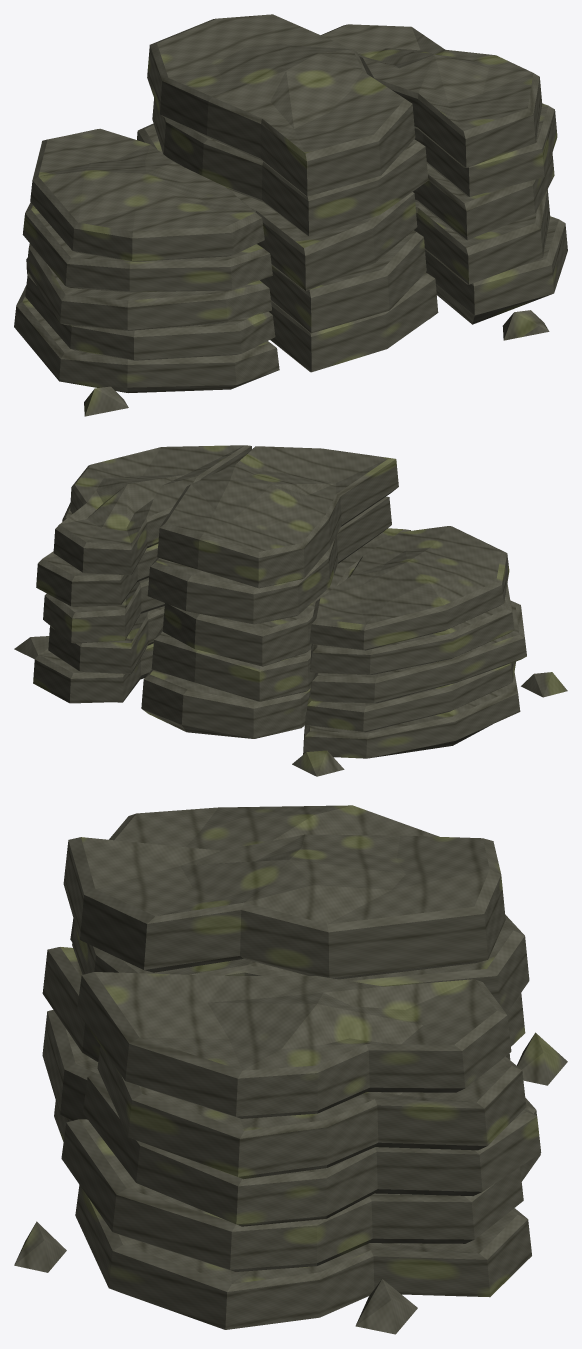
The model's file is frontier_sunmeadow_limestone_lod2.glb.
3 views of the same model, one above another, from view 1: azimuth 30°, elevation 25°; view 2: azimuth 150°, elevation 25°; view 3: azimuth 270°, elevation 25° (orthographic). The views are drawn at different scales.
Visible parts, largest first — view 1: frontier_sunmeadow_limestone_LOD2; view 2: frontier_sunmeadow_limestone_LOD2; view 3: frontier_sunmeadow_limestone_LOD2.
Boxes of the visible parts, x1,y1,x2,y2 form: frontier_sunmeadow_limestone_LOD2: [14, 14, 567, 416]; frontier_sunmeadow_limestone_LOD2: [14, 445, 567, 776]; frontier_sunmeadow_limestone_LOD2: [14, 805, 567, 1334].
Size of the model in its own units: 5.9 by 2.43 by 3.95.
Materials: 1 (1 with a texture image).
